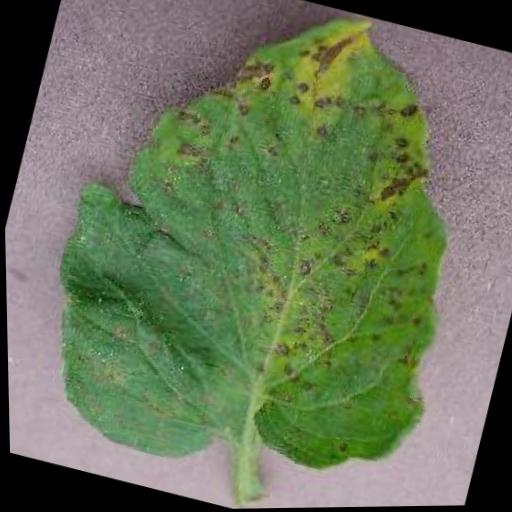Septoria: (9, 0, 512, 512)
